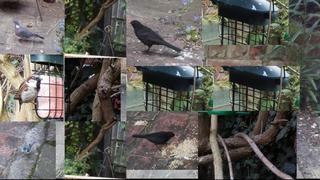blackbird: (128, 20, 182, 56), (131, 131, 178, 152)
blue tit: (21, 142, 36, 160)
sparrow: (13, 74, 44, 112)
wood pigeon: (12, 20, 45, 42)
